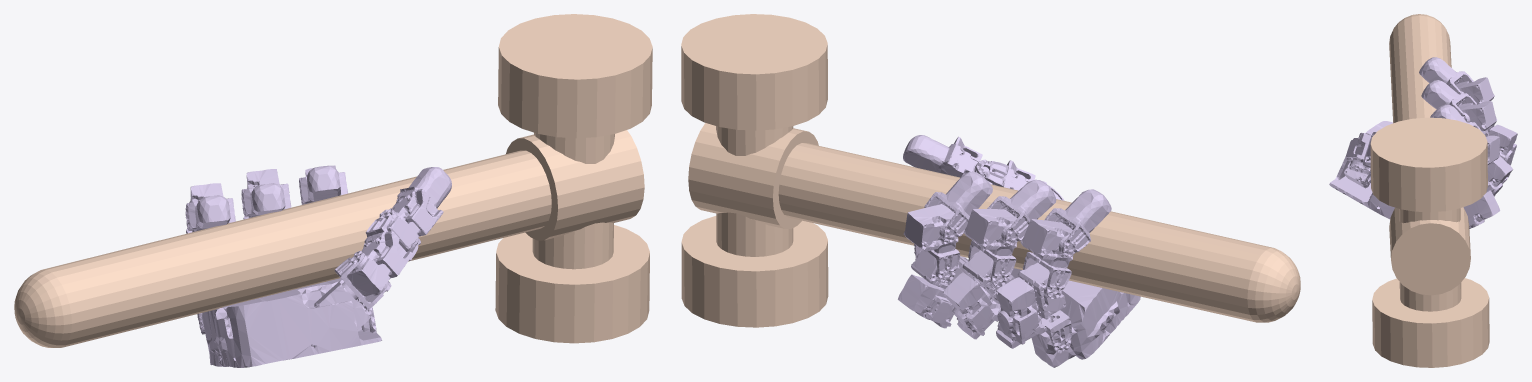
The model's file is 49a36d9ae0fa58-closed.glb.
3 views of the same model, side by side, from view 1: azimuth 30°, elevation 25°; view 2: azimuth 150°, elevation 25°; view 3: azimuth 270°, elevation 25° (orthographic). The views are drawn at different scales.
Parts seen in each view (by area): view 1: world, LEAP_hand; view 2: world, LEAP_hand; view 3: world, LEAP_hand.
Boxes of the visible parts, x1,y1,x2,y2 form: world: (14,14,652,347); LEAP_hand: (185,165,451,367); world: (681,14,1300,327); LEAP_hand: (898,135,1140,367); world: (1370,14,1489,367); LEAP_hand: (1329,57,1517,229).
Bounding box in the file's own units: 0.5377 × 0.2173 × 0.1837.
